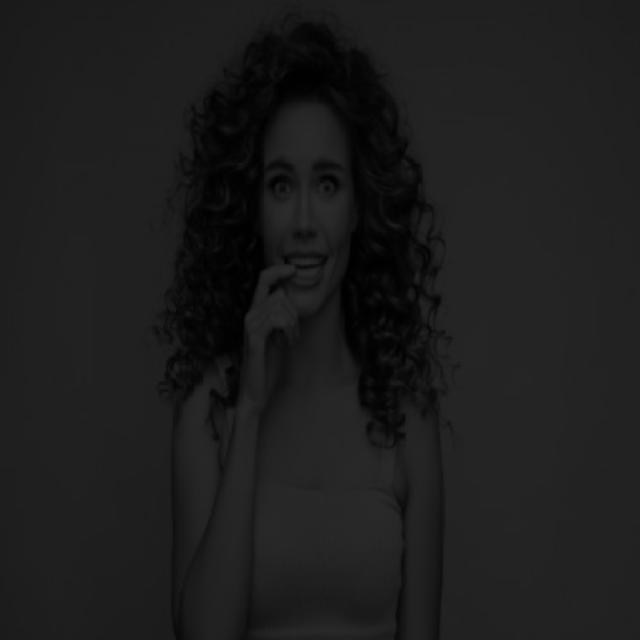Happy: (193, 67, 448, 364)
